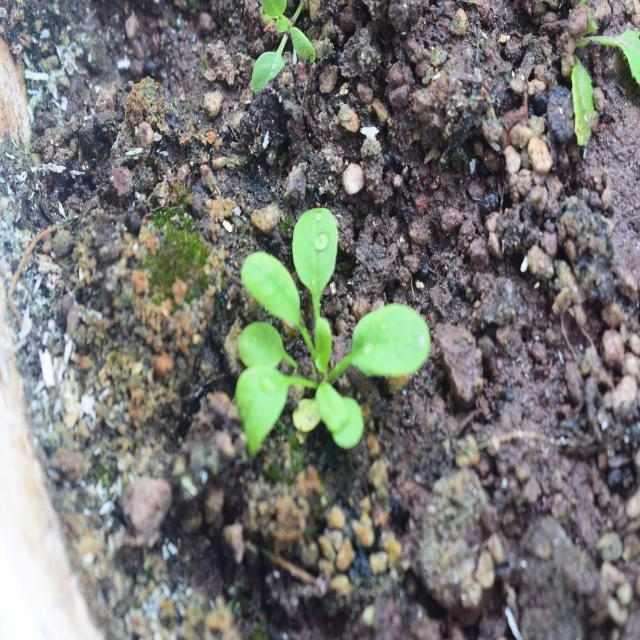Shepherd_Purse: (215, 186, 431, 465)
